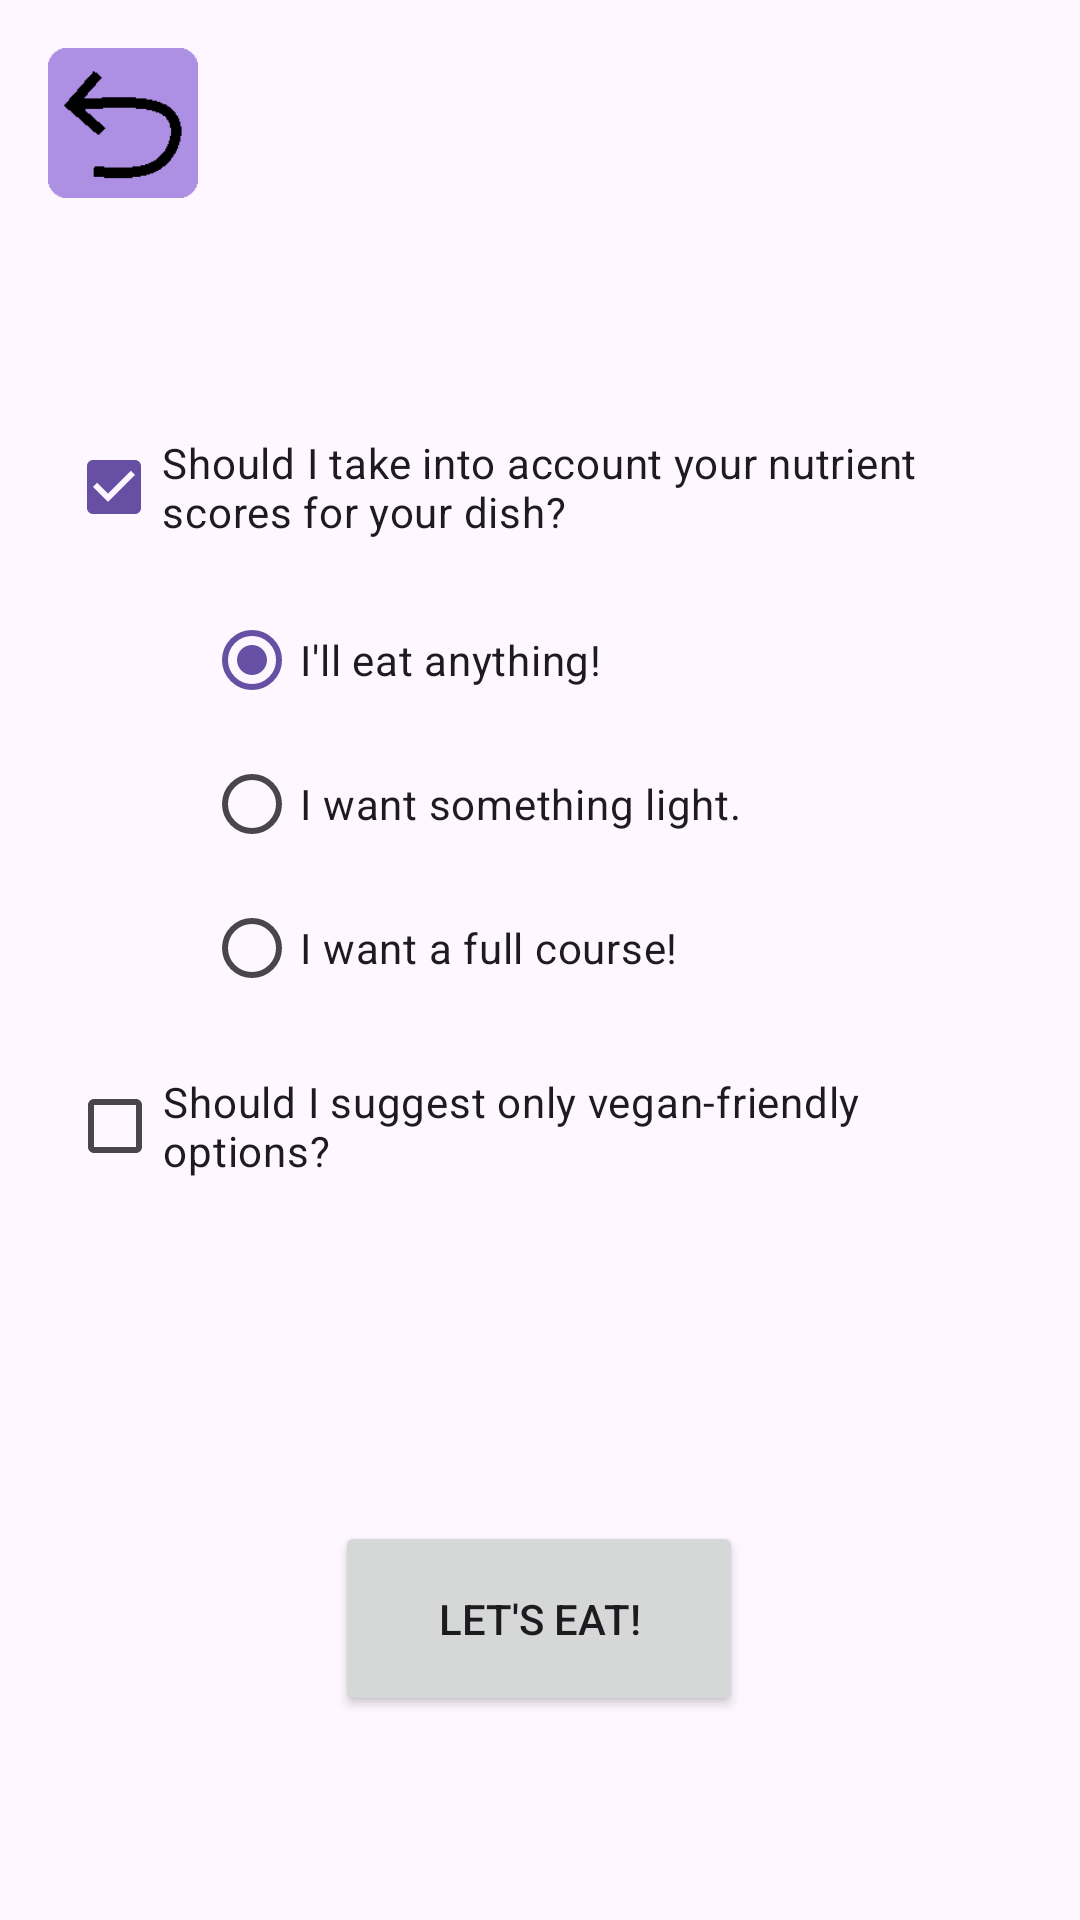

Screen size 1080px x 1920px. Icon name, then its box in pixels as bbox(x1, y1, x2, y2):
Return to main screen: bbox(48, 48, 198, 198)
